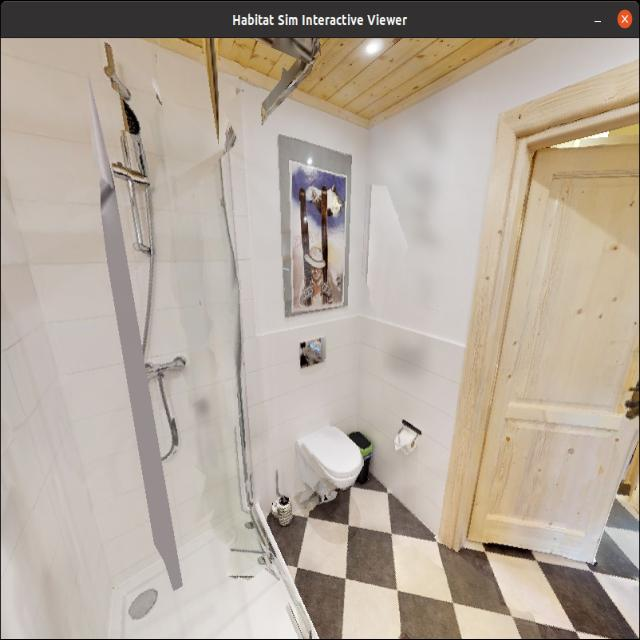door: (484, 143, 640, 576)
door-frame: (455, 103, 640, 585)
shower: (0, 0, 298, 635)
toilet: (280, 405, 374, 524)
